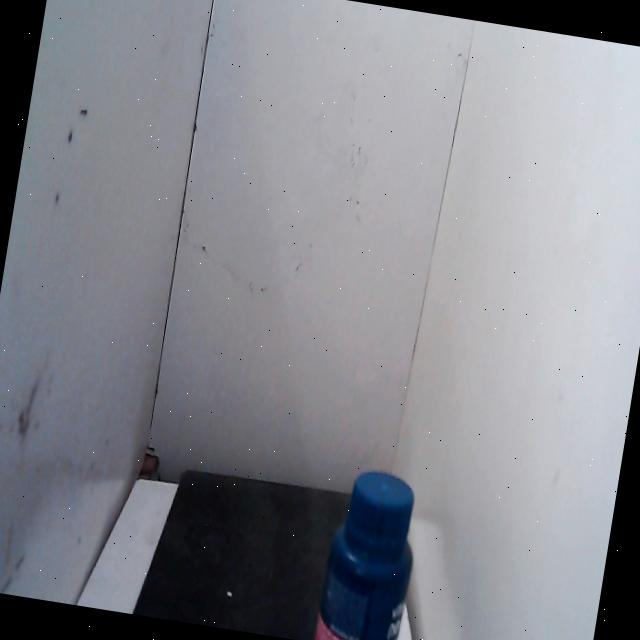plastic: (300, 451, 436, 640)
